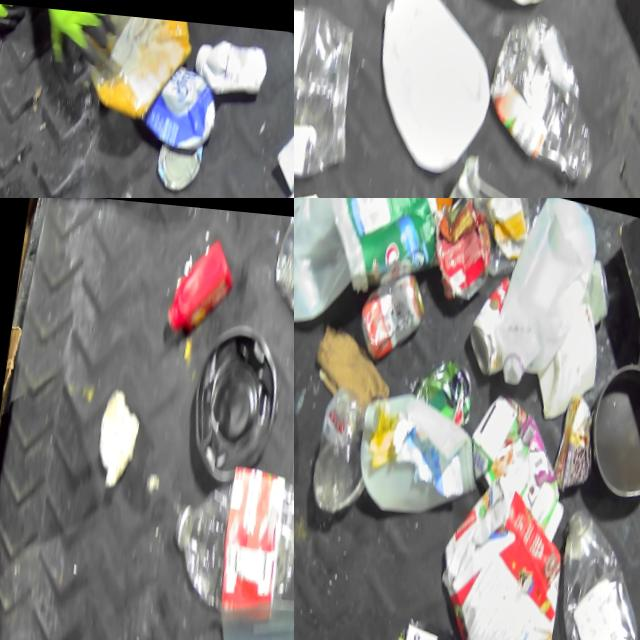can: (350, 254, 431, 368), (422, 198, 497, 300), (460, 258, 518, 375), (545, 378, 602, 491), (407, 343, 478, 426), (262, 208, 294, 351)
milk_jug: (351, 0, 505, 182), (482, 198, 605, 397), (294, 198, 373, 334), (294, 154, 361, 198)
non_white_jug: (538, 491, 640, 640), (161, 224, 240, 338)
plastic_bottle: (473, 0, 613, 179), (159, 440, 294, 621)
